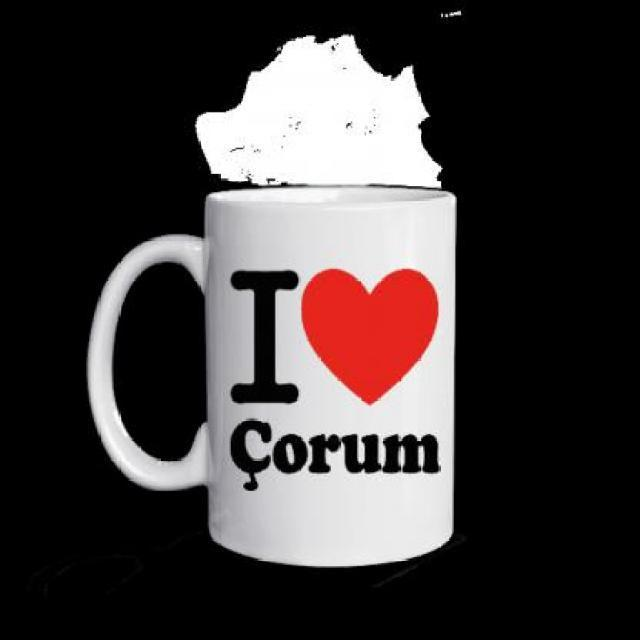taza: (88, 190, 456, 566)
